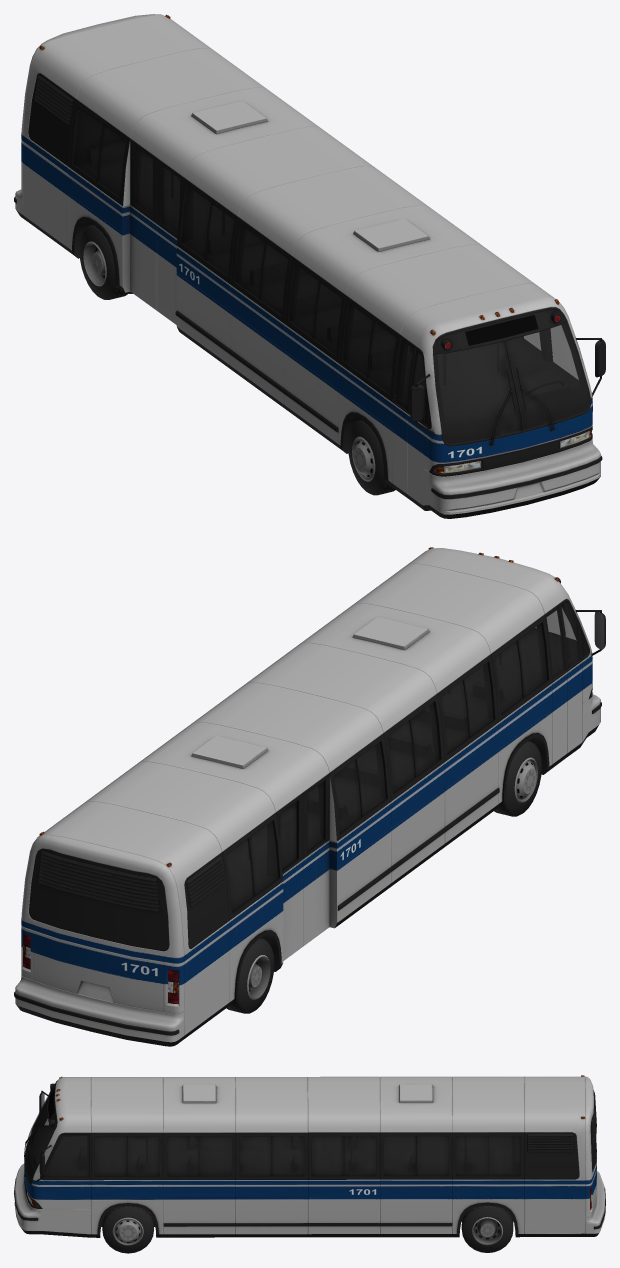
Rendered from citybus.glb.
The picture shows the model from 3 angles, top to bottom: view 1: azimuth 30°, elevation 25°; view 2: azimuth 150°, elevation 25°; view 3: azimuth 270°, elevation 25°; orthographic projection. The views are drawn at different scales.
Visible parts, largest first — view 1: body_0, body_1, wheel_0, wheel_3, body_2, body_3; view 2: body_0, body_1, wheel_3, wheel_0, body_3; view 3: body_0, body_1, wheel_2, wheel_1.
Boxes of the visible parts, x1=… form: body_0: x1=14, y1=14, x2=605, y2=518; body_1: x1=74, y1=108, x2=589, y2=443; wheel_0: x1=79, y1=225, x2=132, y2=299; wheel_3: x1=348, y1=420, x2=395, y2=495; body_2: x1=465, y1=315, x2=538, y2=345; body_3: x1=39, y1=14, x2=591, y2=473; body_0: x1=14, y1=548, x2=605, y2=1046; body_1: x1=226, y1=602, x2=588, y2=911; wheel_3: x1=494, y1=741, x2=541, y2=816; wheel_0: x1=226, y1=938, x2=274, y2=1013; body_3: x1=23, y1=547, x2=559, y2=1003; body_0: x1=14, y1=1076, x2=605, y2=1237; body_1: x1=24, y1=1093, x2=520, y2=1183; wheel_2: x1=461, y1=1205, x2=513, y2=1252; wheel_1: x1=102, y1=1206, x2=153, y2=1253.
Bounding box in the file's own units: 2.54 × 2.52 × 9.95.
5 materials, 4 textured.
